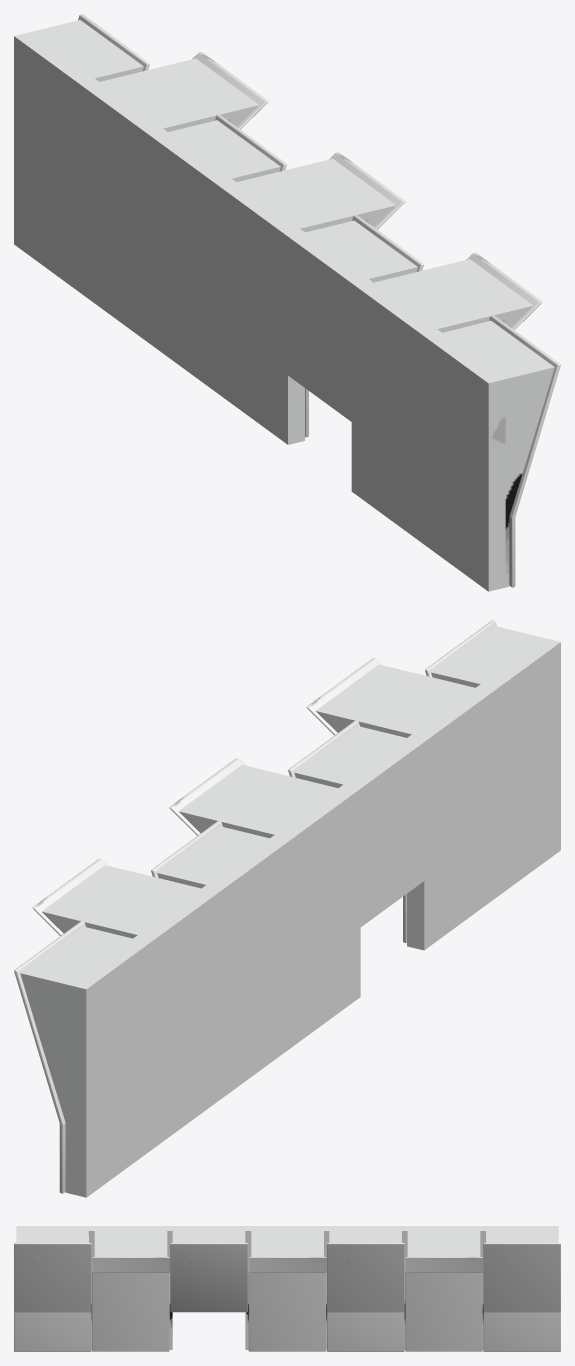
File: Wall With Hall.FBX
3 views of the same model, one above another, from view 1: azimuth 30°, elevation 25°; view 2: azimuth 150°, elevation 25°; view 3: azimuth 270°, elevation 25° (orthographic). The views are drawn at different scales.
Parts seen in each view (by area): view 1: Object014; view 2: Object014; view 3: Object014.
Boxes of the visible parts, bbox=[...] form: Object014: bbox=[14, 14, 560, 591]; Object014: bbox=[14, 620, 560, 1197]; Object014: bbox=[14, 1226, 560, 1351].
Bounding box in the file's own units: 5.91 × 9.86 × 40.39.
